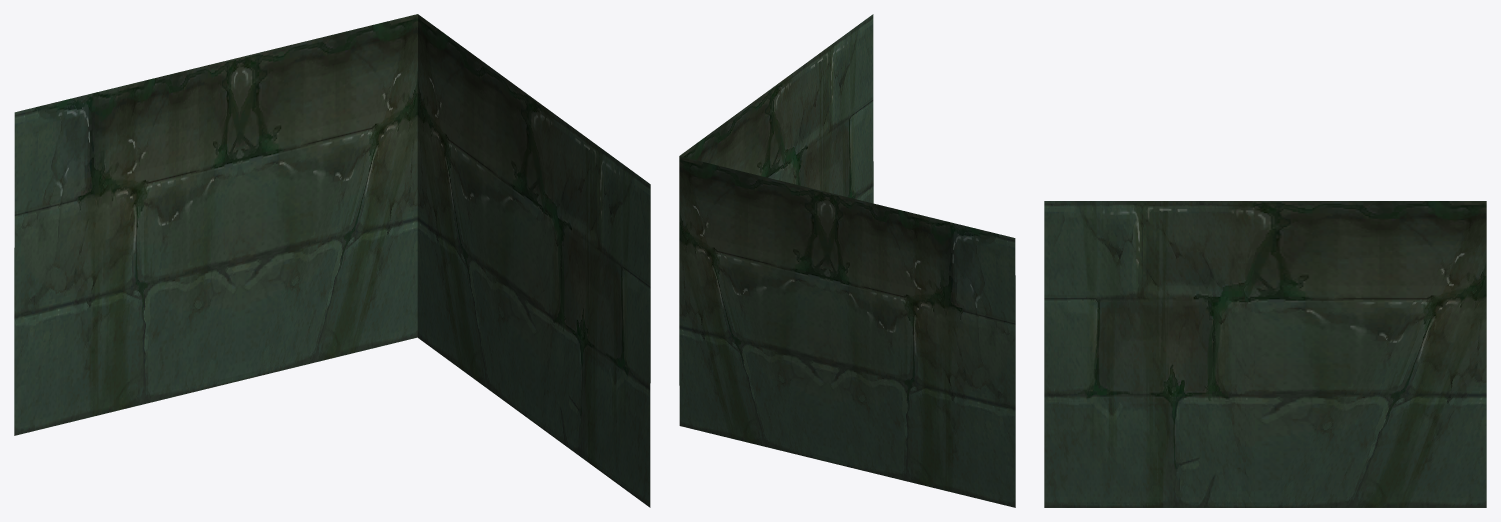
The model's file is stemple_half_concave_05.fbx.
The picture shows the model from 3 angles, left to right: view 1: azimuth 30°, elevation 25°; view 2: azimuth 150°, elevation 25°; view 3: azimuth 270°, elevation 25°; orthographic projection. The views are drawn at different scales.
Visible parts, largest first — view 1: obj0.394; view 2: obj0.394; view 3: obj0.394.
Boxes of the visible parts, left/top/right/bottom form: obj0.394: left=14, top=14, right=650, bottom=507; obj0.394: left=679, top=14, right=1015, bottom=507; obj0.394: left=1044, top=201, right=1486, bottom=507.
Size of the model in its own units: 3.59 by 2.75 by 3.59.
